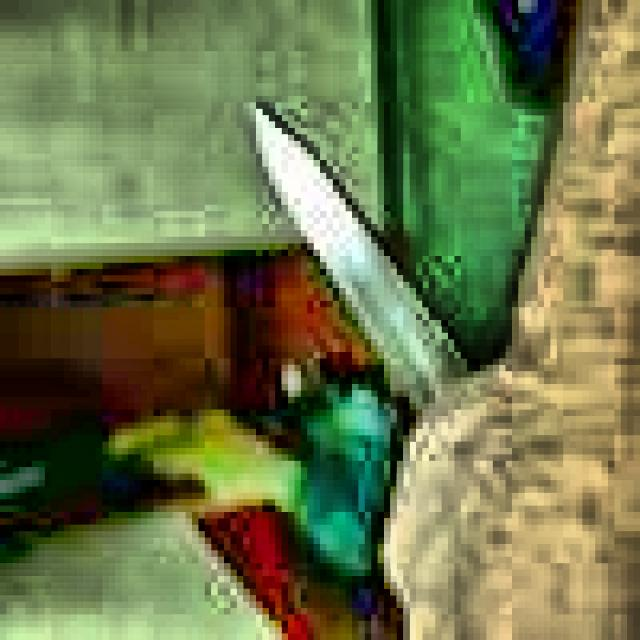knife: (259, 110, 470, 413)
